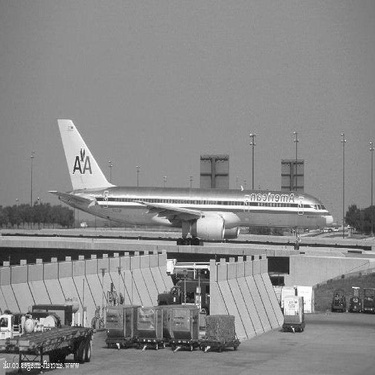airplane: (42, 100, 345, 265)
